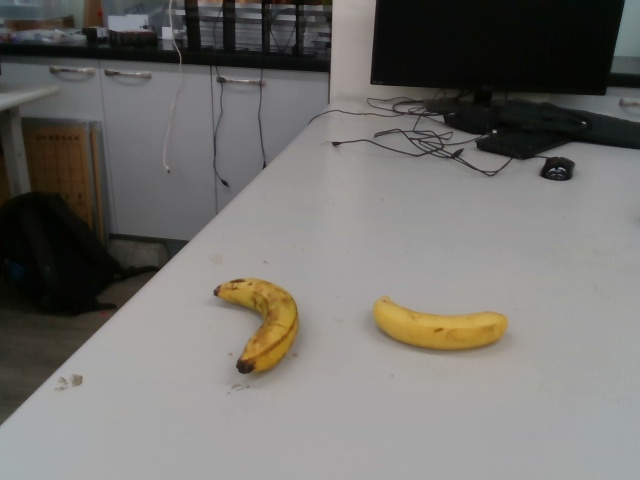banana: (211, 275, 299, 374), (372, 296, 510, 352)
